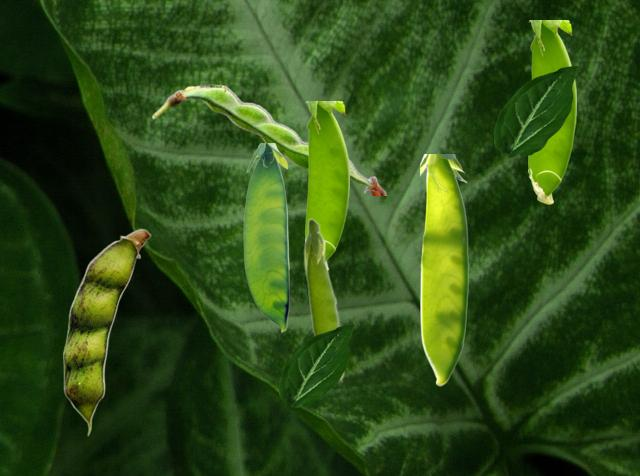pea: (152, 84, 386, 194), (63, 228, 150, 435), (420, 154, 468, 385), (528, 20, 575, 203), (243, 143, 288, 331), (305, 101, 348, 259), (303, 217, 344, 381)
